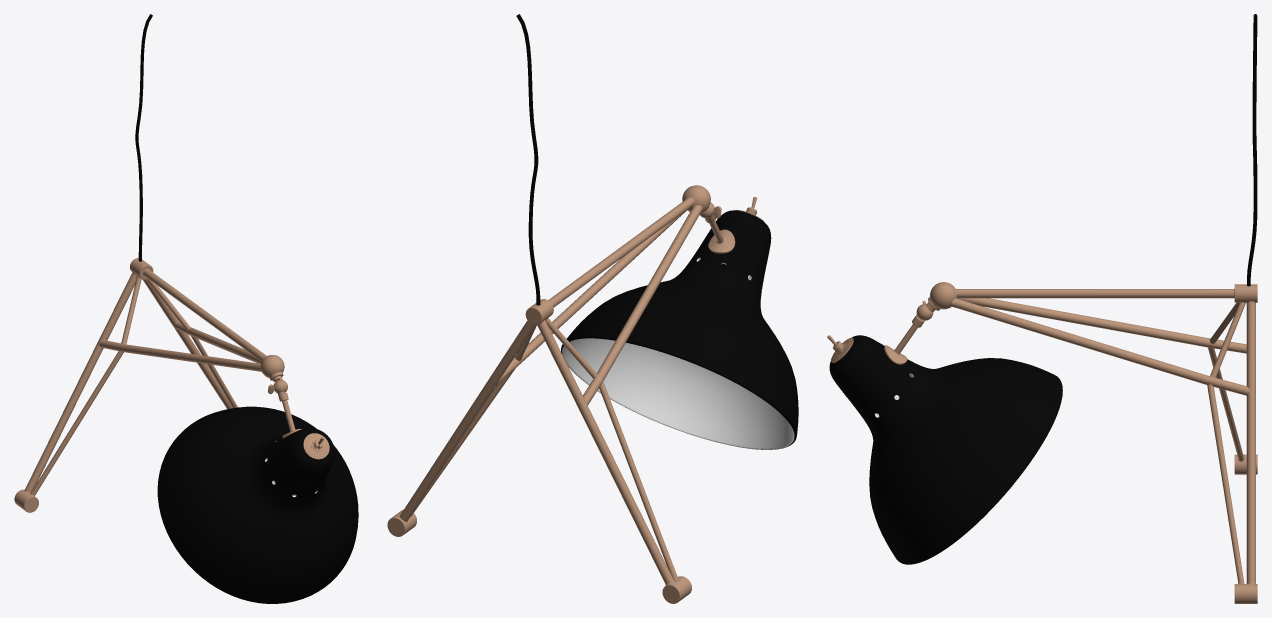
File: Lamp.obj
3 views of the same model, side by side, from view 1: azimuth 30°, elevation 25°; view 2: azimuth 150°, elevation 25°; view 3: azimuth 270°, elevation 25° (orthographic). The views are drawn at different scales.
Parts seen in each view (by area): view 1: Delightfull_Diana_table_lamp_mat4; view 2: Delightfull_Diana_table_lamp_mat4; view 3: Delightfull_Diana_table_lamp_mat4.
Part boxes in pixels (x1,y1,x2,y2): Delightfull_Diana_table_lamp_mat4: (14,14,358,603); Delightfull_Diana_table_lamp_mat4: (387,14,798,603); Delightfull_Diana_table_lamp_mat4: (827,14,1257,603).
Size of the model in its own units: 34.06 by 62.44 by 44.93.
